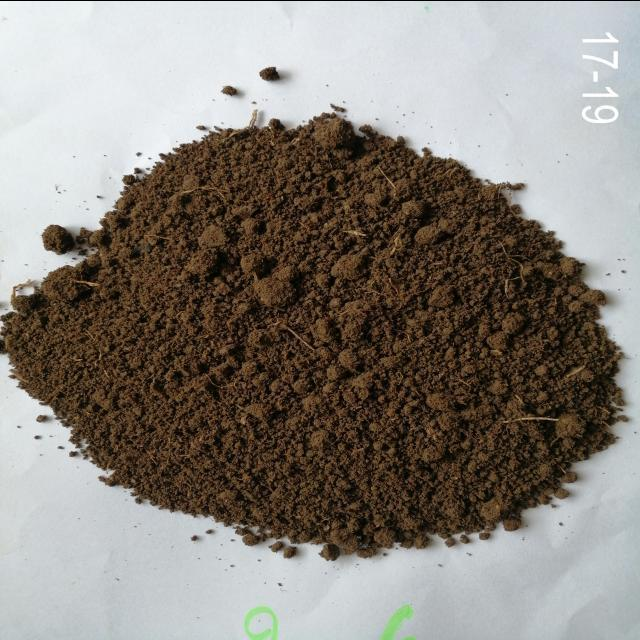soil: (125, 198, 504, 484)
